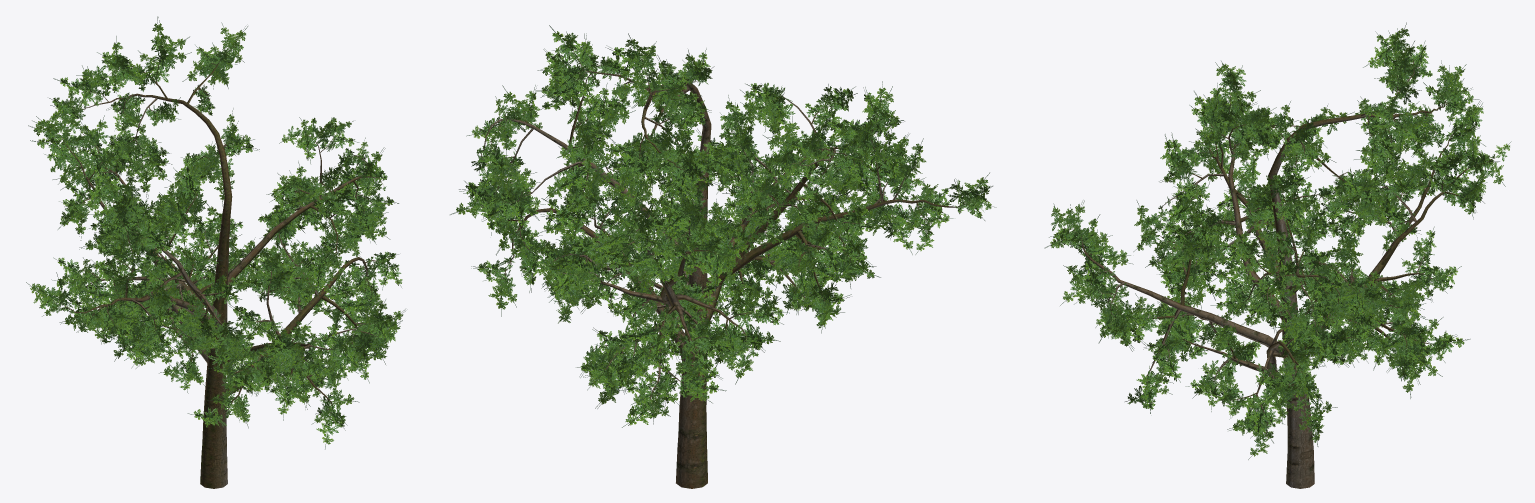
Rendered from tree_ash_medium.glb.
The picture shows the model from 3 angles, left to right: view 1: azimuth 30°, elevation 25°; view 2: azimuth 150°, elevation 25°; view 3: azimuth 270°, elevation 25°; orthographic projection. The views are drawn at different scales.
Parts seen in each view (by area): view 1: Leaves, Branches; view 2: Leaves, Branches; view 3: Leaves, Branches.
Boxes of the visible parts, x1,y1,x2,y2 form: Leaves: (26,16,405,449); Branches: (53,46,385,488); Leaves: (450,25,996,427); Branches: (481,51,969,488); Leaves: (1044,22,1511,459); Branches: (1070,60,1494,488).
Bounding box in the file's own units: 11.29 × 11 × 10.8.
Materials: 2 (2 with a texture image).
